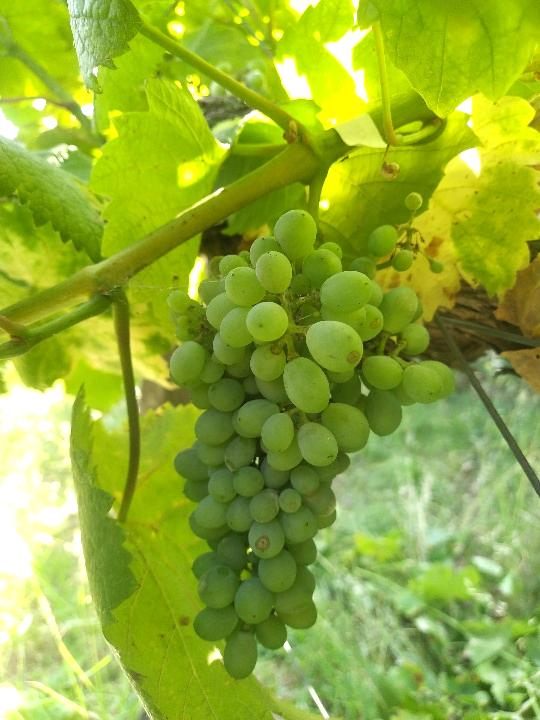grape: (163, 190, 462, 688)
